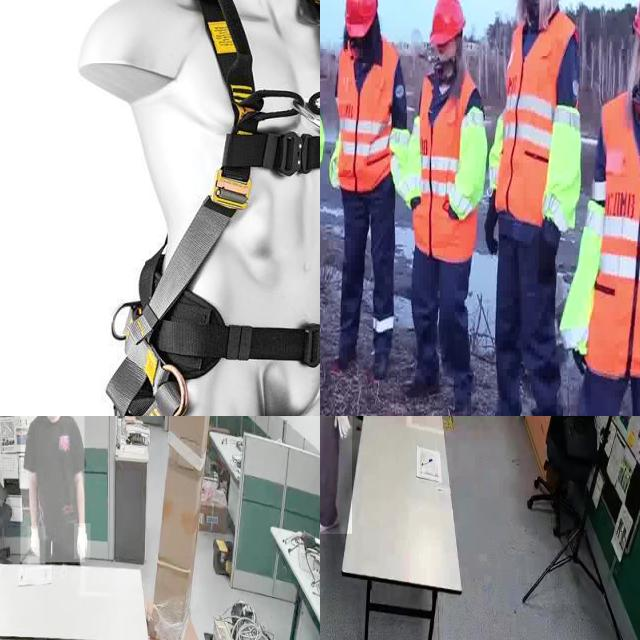Harness: (111, 0, 320, 416)
boots: (364, 313, 394, 379), (479, 380, 523, 416), (335, 319, 358, 376), (534, 390, 562, 416)
hand_glove: (535, 217, 556, 295), (484, 192, 500, 256), (28, 526, 46, 566), (74, 523, 91, 560), (331, 416, 354, 439)
head_helmet: (427, 0, 464, 46), (345, 0, 379, 42)
person: (472, 0, 575, 416), (320, 0, 405, 386), (399, 1, 477, 416), (585, 0, 640, 416), (20, 416, 85, 563), (320, 416, 352, 534)
shoes: (320, 506, 341, 536)
vest: (587, 88, 640, 381), (499, 10, 575, 212), (411, 65, 479, 255), (336, 36, 398, 190)
